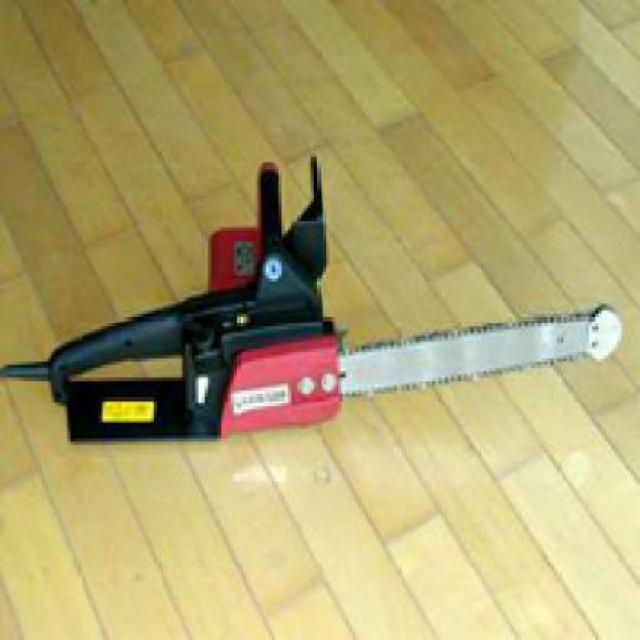Chainsaw: (0, 146, 626, 439)
